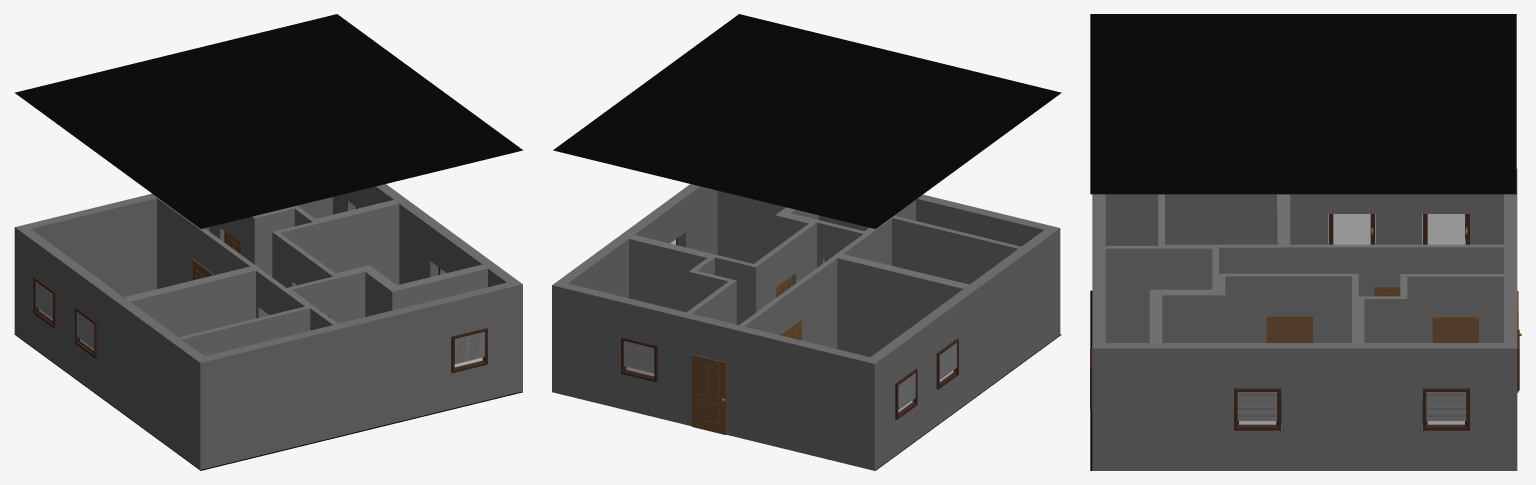
File: EchteWeltWohnung 1.fbx
The picture shows the model from 3 angles, left to right: view 1: azimuth 30°, elevation 25°; view 2: azimuth 150°, elevation 25°; view 3: azimuth 270°, elevation 25°; orthographic projection. The views are drawn at different scales.
Visible parts, largest first — view 1: Plane.001, Plane.007, Plane.005, Plane.003, Plane.006, Plane.004, Plane.002, Cube.015, Plane, Cube.013; view 2: Plane.001, Plane.007, Plane.004, Plane.003, Plane.005, Plane.002, Cube.001, Plane.006, Cube.018, Cube.016; view 3: Plane.007, Plane.001, Plane.003, Plane.002, Plane.006, Plane.004, Plane.005, Cube.021, Cube.020, Cube.003, Cube.006, Cube.008 (+3 smaller).
Part boxes in pixels (x1,y1,x2,y2): Plane.001: [14, 184, 522, 469]; Plane.007: [15, 14, 523, 228]; Plane.005: [127, 267, 311, 356]; Plane.003: [272, 202, 484, 288]; Plane.006: [284, 266, 487, 330]; Plane.004: [124, 198, 257, 299]; Plane.002: [209, 200, 396, 316]; Cube.015: [454, 331, 485, 364]; Plane: [14, 334, 522, 470]; Cube.013: [451, 328, 487, 373]; Plane.001: [552, 184, 1060, 470]; Plane.007: [553, 14, 1061, 228]; Plane.004: [739, 255, 965, 357]; Plane.003: [632, 191, 816, 324]; Plane.005: [835, 215, 1020, 286]; Plane.002: [629, 237, 736, 324]; Cube.001: [691, 354, 726, 434]; Plane.006: [783, 200, 915, 267]; Cube.018: [624, 341, 654, 373]; Cube.016: [621, 337, 657, 382]; Plane.007: [1090, 14, 1516, 194]; Plane.001: [1092, 169, 1517, 470]; Plane.003: [1155, 273, 1358, 342]; Plane.002: [1357, 274, 1503, 398]; Plane.006: [1105, 246, 1218, 342]; Plane.004: [1283, 194, 1503, 296]; Plane.005: [1158, 194, 1284, 273]; Cube.021: [1266, 316, 1312, 398]; Cube.020: [1432, 316, 1478, 342]; Cube.003: [1426, 392, 1466, 420]; Cube.006: [1237, 392, 1277, 420]; Cube.008: [1427, 214, 1464, 244].
Size of the model in its own units: 3226 by 3234 by 2287.
